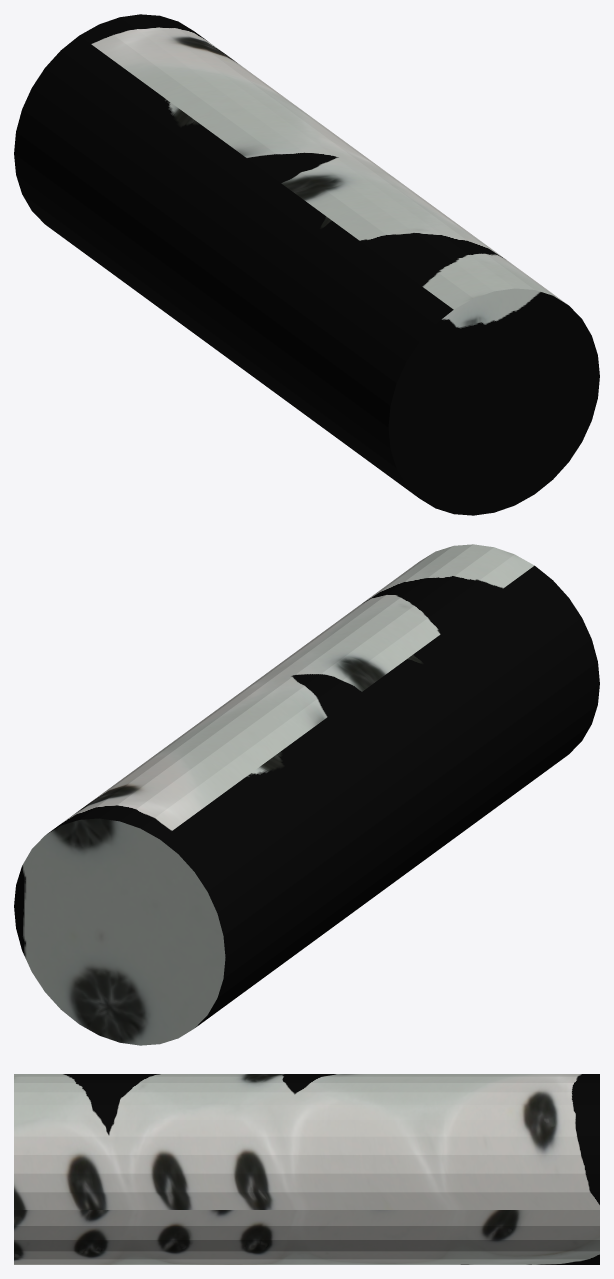
The picture shows the model from 3 angles, top to bottom: view 1: azimuth 30°, elevation 25°; view 2: azimuth 150°, elevation 25°; view 3: azimuth 270°, elevation 25°; orthographic projection. The views are drawn at different scales.
Parts seen in each view (by area): view 1: Cylinder; view 2: Cylinder; view 3: Cylinder.
Part boxes in pixels (left/top/right/bottom): Cylinder: left=14, top=14, right=599, bottom=515; Cylinder: left=14, top=544, right=599, bottom=1045; Cylinder: left=14, top=1074, right=599, bottom=1264.
Size of the model in its own units: 0.075 by 0.075 by 0.23.
